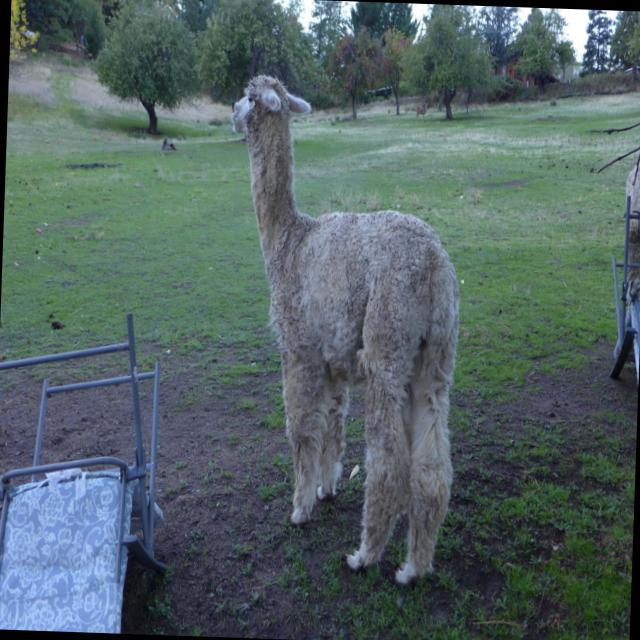alpaca: (215, 73, 467, 585)
